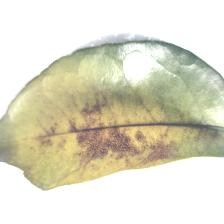canker: (34, 87, 179, 166)
